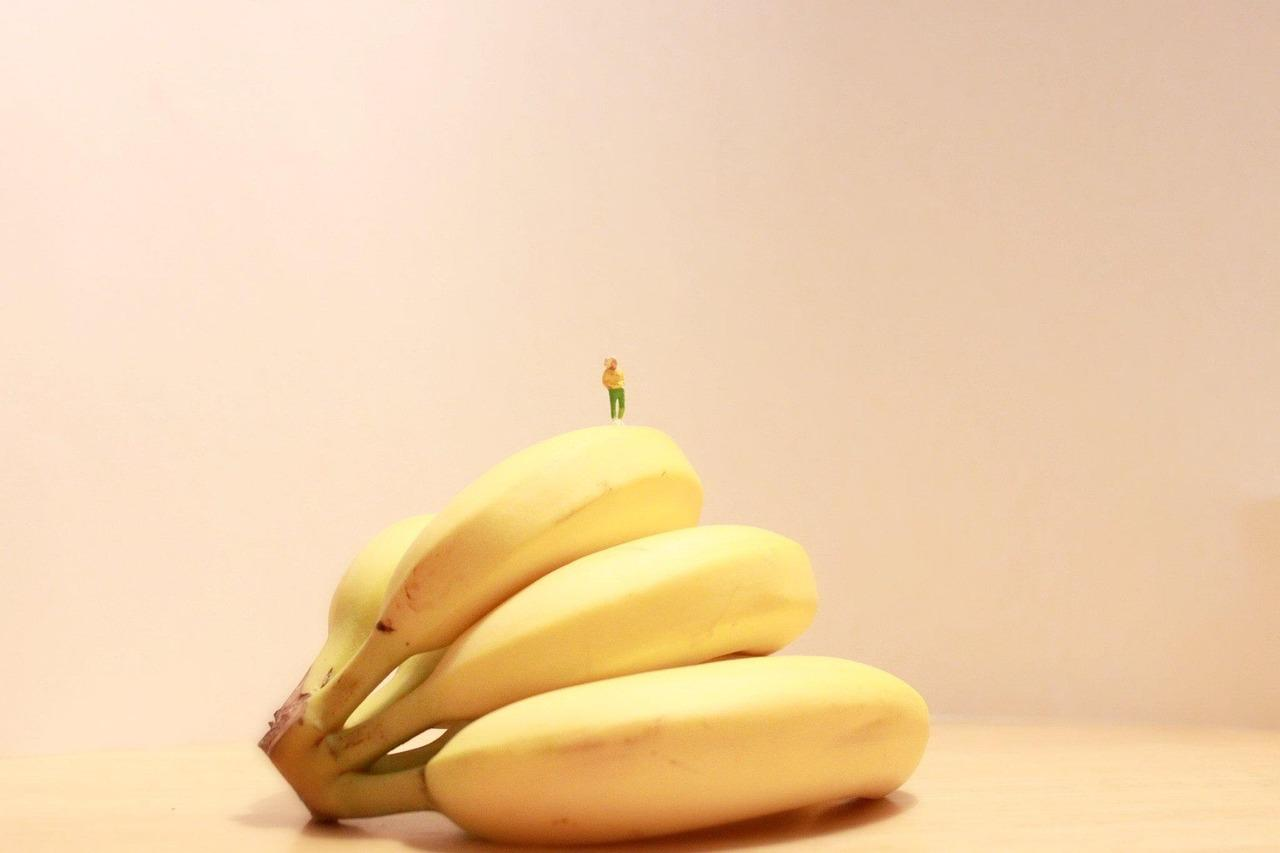banana: (238, 407, 962, 849)
